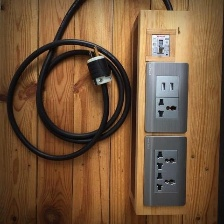three_eye_plug: (140, 135, 189, 209), (143, 61, 191, 133)
